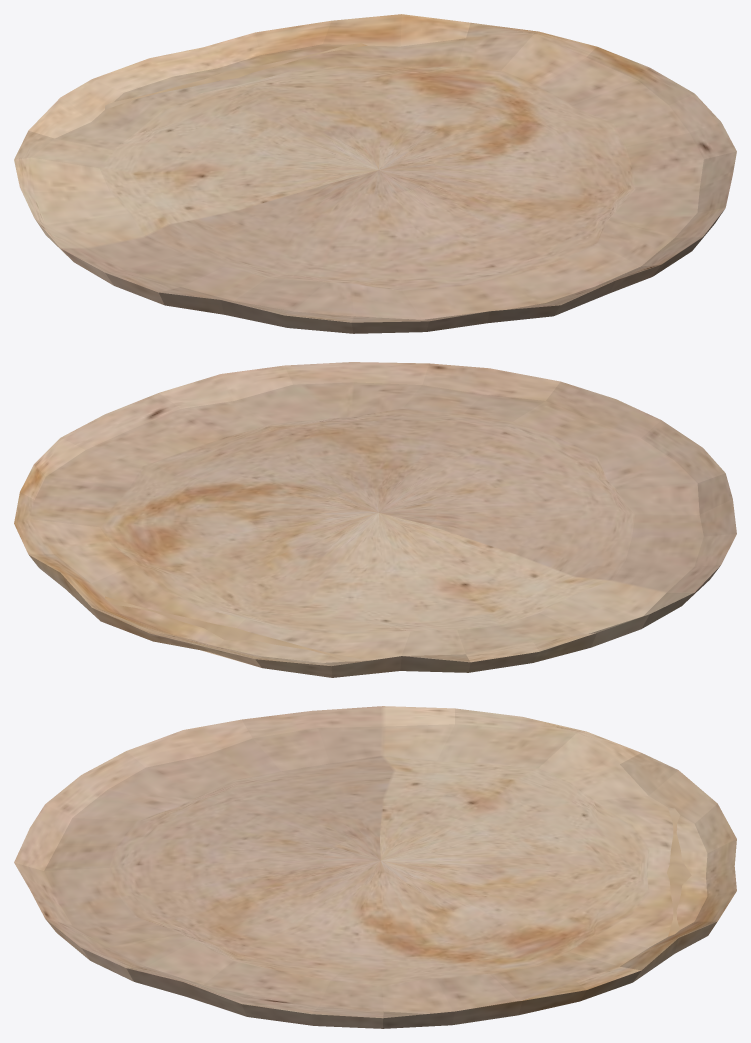
File: deegbal_fase_3.glb
The picture shows the model from 3 angles, top to bottom: view 1: azimuth 30°, elevation 25°; view 2: azimuth 150°, elevation 25°; view 3: azimuth 270°, elevation 25°; orthographic projection.
Visible parts, largest first — view 1: Sphere; view 2: Sphere; view 3: Sphere.
Part boxes in pixels (x1,y1,x2,y2): Sphere: [14, 14, 736, 333]; Sphere: [14, 362, 736, 677]; Sphere: [14, 706, 736, 1028].
Bounding box in the file's own units: 3.09 × 0.1163 × 3.03.
Materials: 1 (1 with a texture image).
